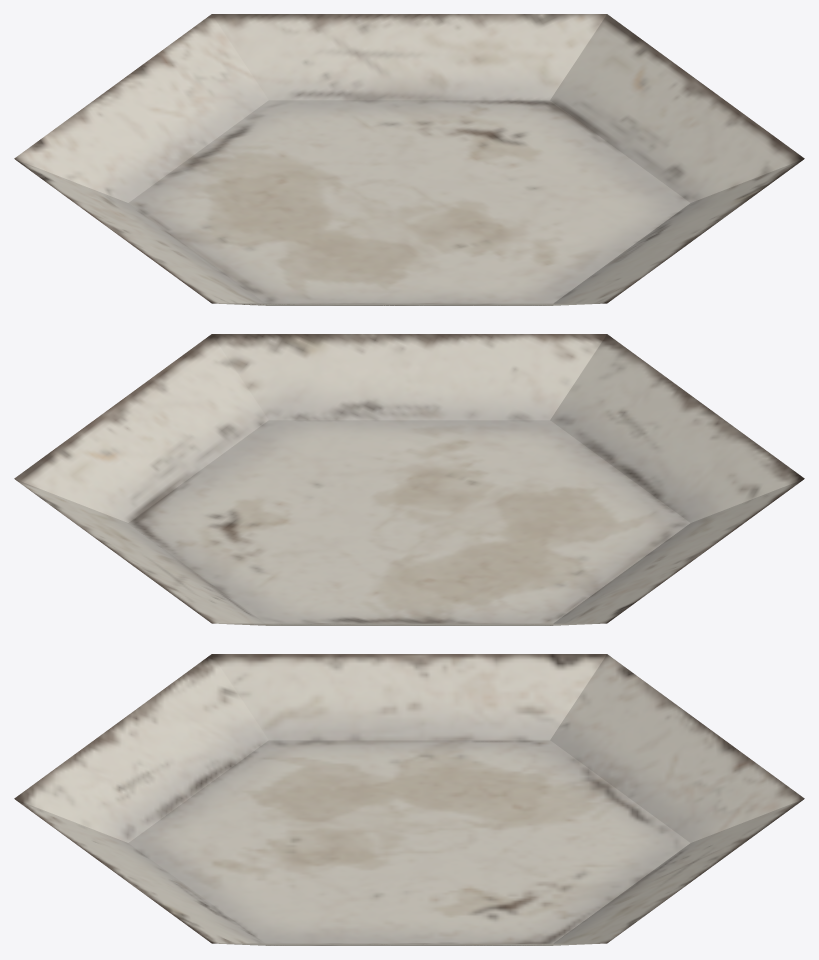
The model's file is Plate_1.fbx.
The picture shows the model from 3 angles, top to bottom: view 1: azimuth 30°, elevation 25°; view 2: azimuth 150°, elevation 25°; view 3: azimuth 270°, elevation 25°; orthographic projection.
Parts seen in each view (by area): view 1: Plate_1; view 2: Plate_1; view 3: Plate_1.
Part boxes in pixels (x1=…): Plate_1: x1=14, y1=14, x2=804, y2=305; Plate_1: x1=14, y1=334, x2=804, y2=625; Plate_1: x1=14, y1=654, x2=804, y2=945.
Bounding box in the file's own units: 23.88 × 1.7 × 27.58.
